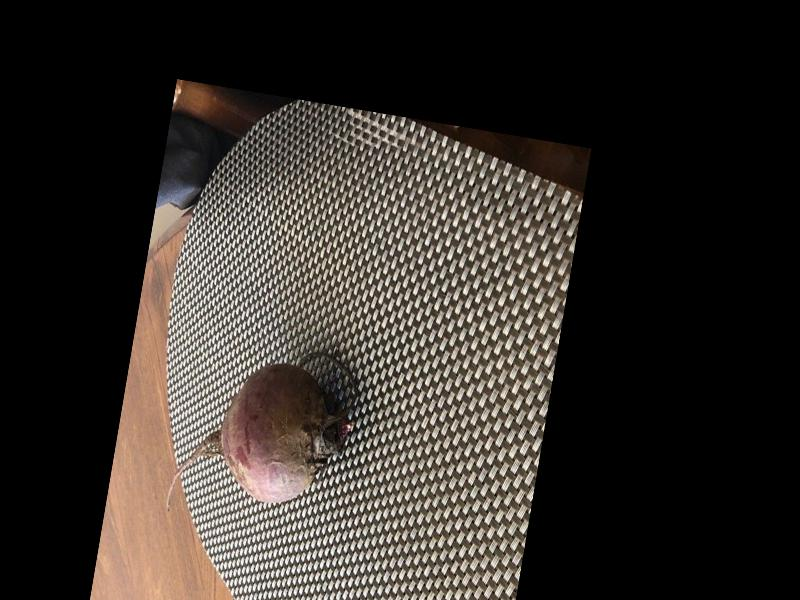Beet: (165, 329, 365, 537)
